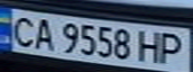5: (93, 24, 115, 60), (75, 21, 96, 57)
8: (112, 26, 136, 61)
9: (54, 19, 81, 55)
A: (30, 16, 57, 51)
C: (6, 14, 39, 48)
H: (136, 28, 166, 63)
P: (157, 29, 190, 65)
